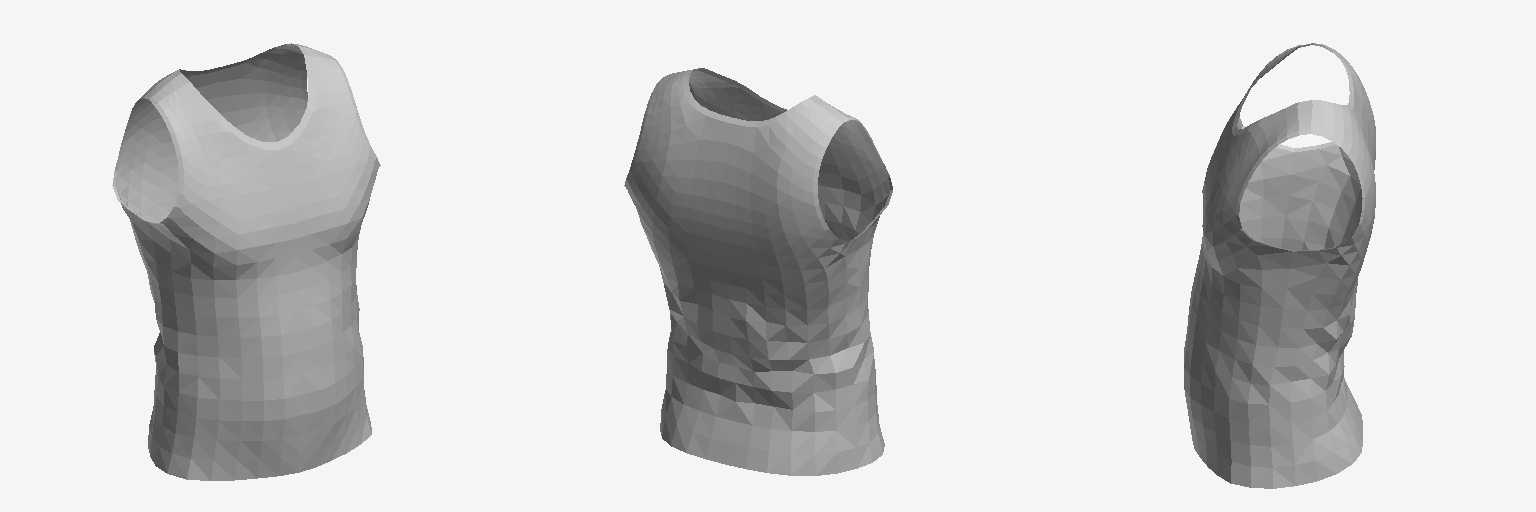
The model's file is TankTop.obj.
3 views of the same model, side by side, from view 1: azimuth 30°, elevation 25°; view 2: azimuth 150°, elevation 25°; view 3: azimuth 270°, elevation 25° (orthographic).
Visible parts, largest first — view 1: TankTop_Plane.006; view 2: TankTop_Plane.006; view 3: TankTop_Plane.006.
Boxes of the visible parts, x1=… form: TankTop_Plane.006: x1=112, y1=43, x2=380, y2=480; TankTop_Plane.006: x1=624, y1=68, x2=892, y2=475; TankTop_Plane.006: x1=1184, y1=43, x2=1375, y2=488.
Bounding box in the file's own units: 0.359 × 0.5753 × 0.2714.